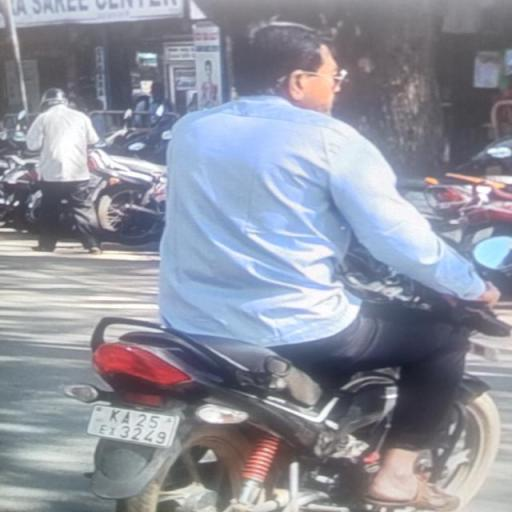bike: (56, 18, 512, 507)
numberplate: (92, 398, 180, 460)
withouthelmet: (240, 22, 328, 106)
